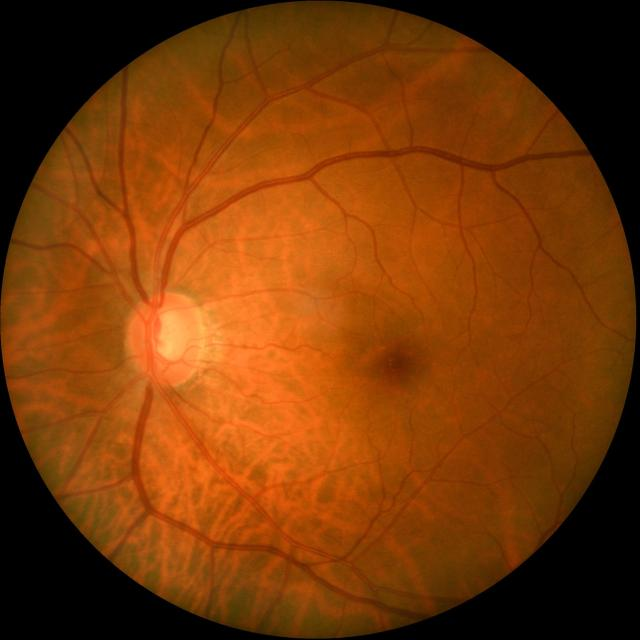OC: (147, 308, 187, 364)
OD: (125, 291, 205, 389)
